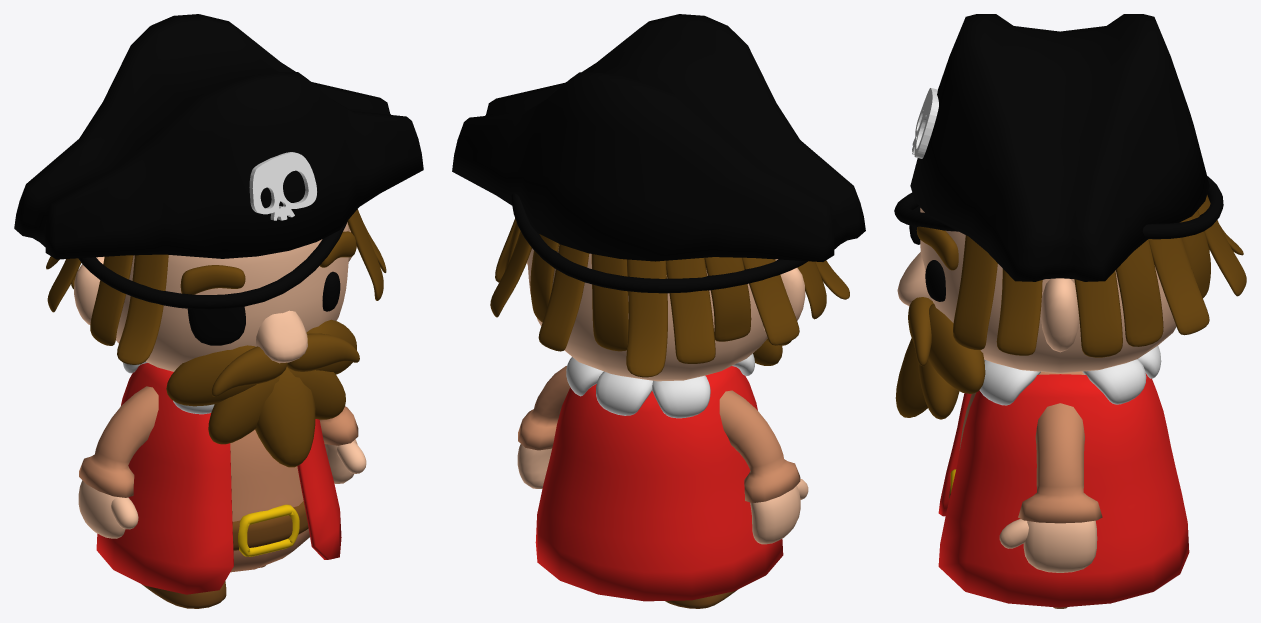
The model's file is Pirate1final.glb.
3 views of the same model, side by side, from view 1: azimuth 30°, elevation 25°; view 2: azimuth 150°, elevation 25°; view 3: azimuth 270°, elevation 25° (orthographic). The views are drawn at different scales.
Visible parts, largest first — view 1: Pirate1_Head, Pirate1_Body, Pirate1_Right_Arm, Pirate1_Left_Arm, Pirate1_Right_Foot; view 2: Pirate1_Head, Pirate1_Body, Pirate1_Right_Arm, Pirate1_Left_Arm; view 3: Pirate1_Head, Pirate1_Body, Pirate1_Left_Arm.
Part boxes in pixels (x1,y1,x2,y2): Pirate1_Head: (14, 14, 423, 467); Pirate1_Body: (96, 361, 341, 594); Pirate1_Right_Arm: (78, 386, 158, 538); Pirate1_Left_Arm: (319, 406, 366, 483); Pirate1_Right_Foot: (142, 581, 226, 608); Pirate1_Head: (452, 14, 865, 381); Pirate1_Body: (535, 353, 783, 601); Pirate1_Right_Arm: (719, 390, 808, 544); Pirate1_Left_Arm: (517, 366, 570, 488); Pirate1_Head: (894, 14, 1246, 419); Pirate1_Body: (938, 346, 1189, 608); Pirate1_Left_Arm: (999, 403, 1102, 572).
Bounding box in the file's own units: 2.35 × 3.19 × 1.82.
